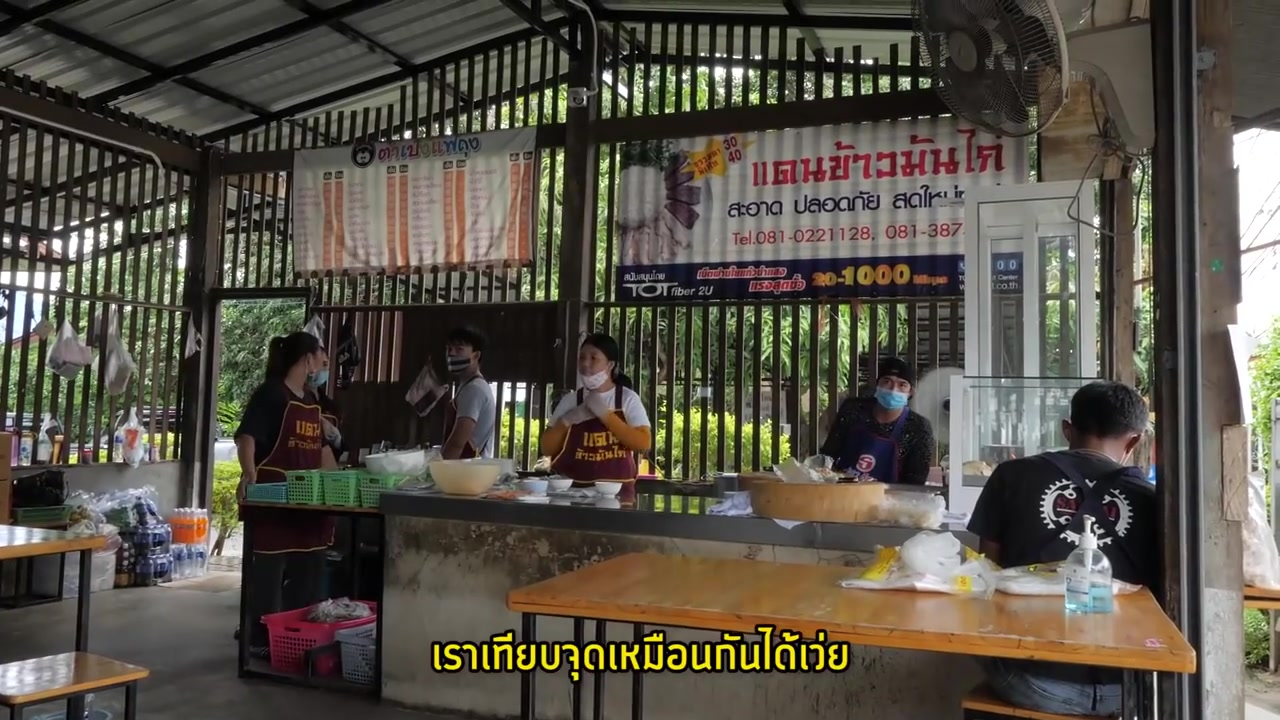text-label: (427, 620, 853, 683)
